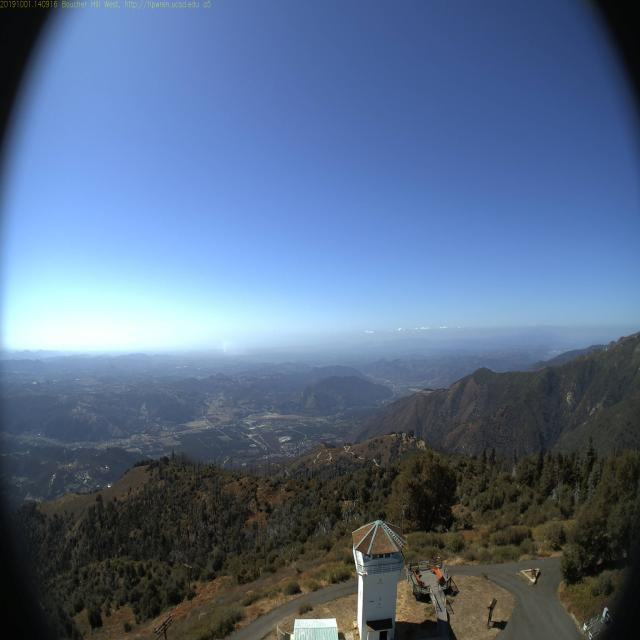smoke: (217, 333, 231, 356)
